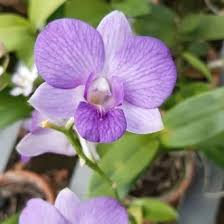orchid: (23, 13, 186, 164)
